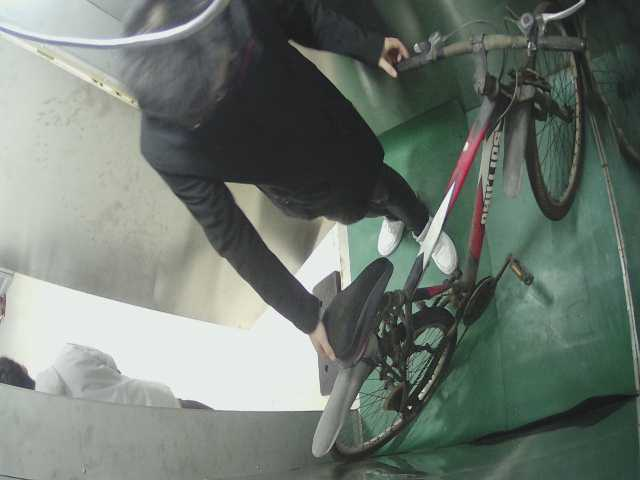bicycle: (301, 3, 601, 467)
person: (99, 8, 460, 280)
